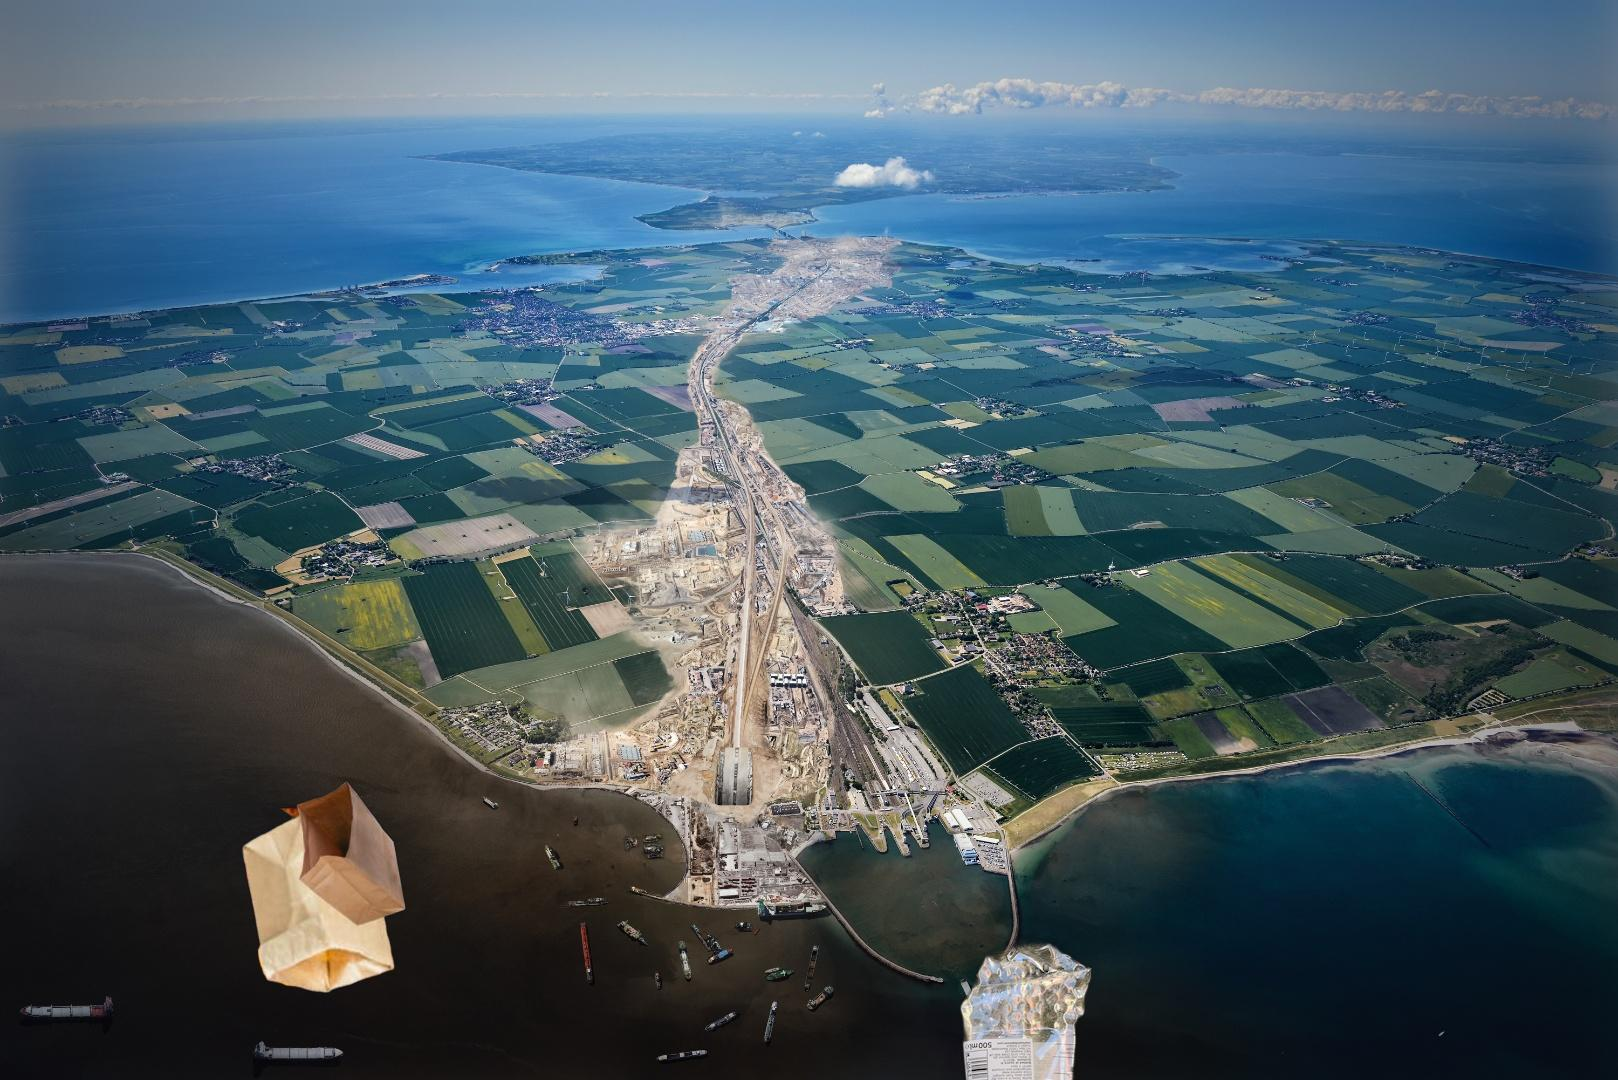glass: (1511, 739, 1618, 1080)
paper-bag: (239, 780, 407, 997)
plastic-bottles: (955, 926, 1098, 1080)
